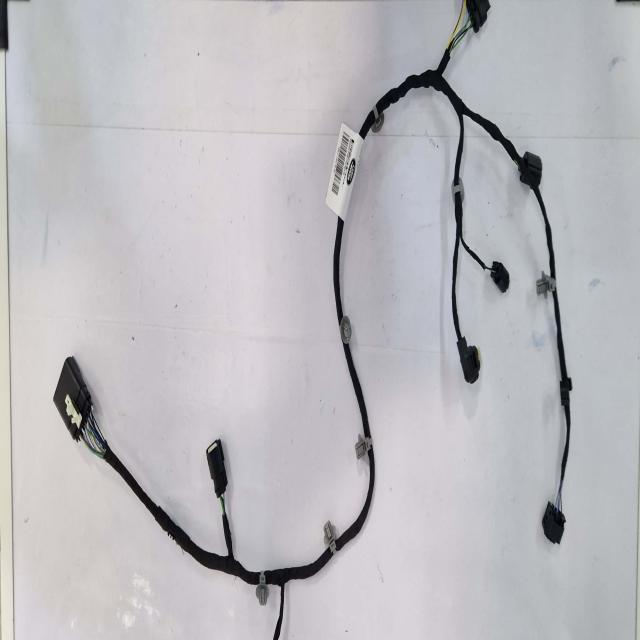Clip: (536, 271, 556, 298), (256, 571, 269, 606), (355, 436, 372, 460), (324, 523, 336, 555), (371, 106, 384, 133), (451, 179, 465, 203), (340, 317, 351, 344)
Connector: (54, 357, 91, 441), (206, 439, 228, 498), (458, 338, 481, 384), (542, 501, 565, 544), (519, 152, 542, 190), (466, 0, 490, 32), (490, 263, 510, 292)
Gape: (77, 400, 107, 462), (444, 5, 473, 56), (553, 478, 566, 515), (217, 490, 227, 520)
Info: (326, 125, 364, 222)
MHEV_N11_Cable: (75, 214, 375, 639), (359, 49, 520, 382), (554, 292, 570, 498), (535, 187, 555, 273), (560, 379, 572, 406)
